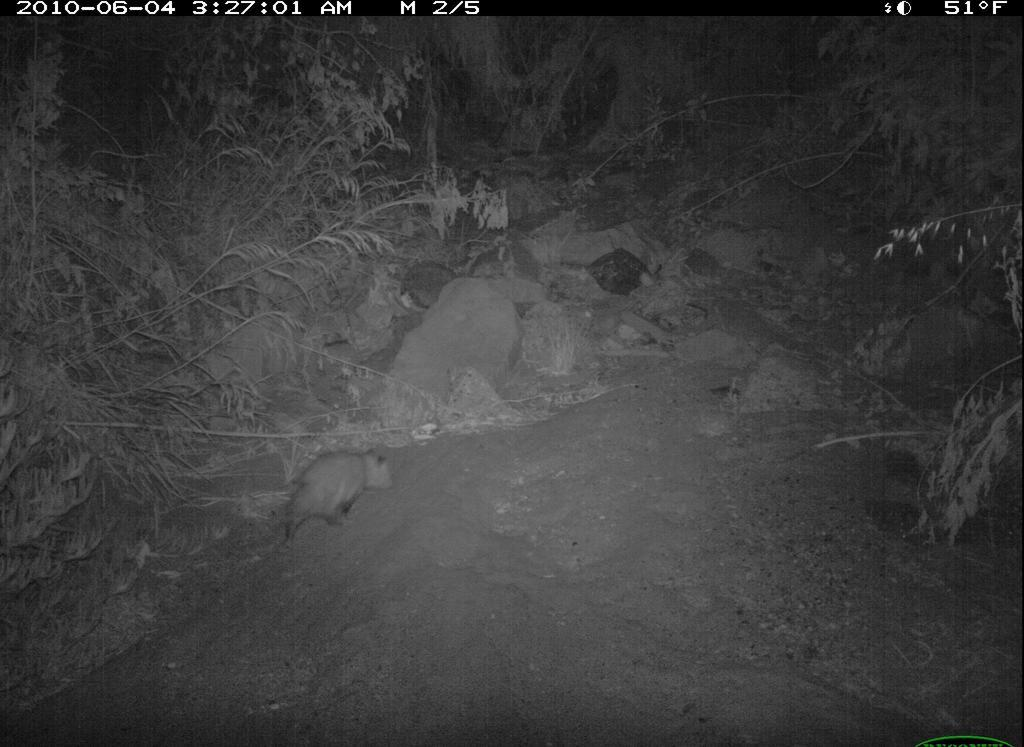opossum: (248, 443, 396, 553)
